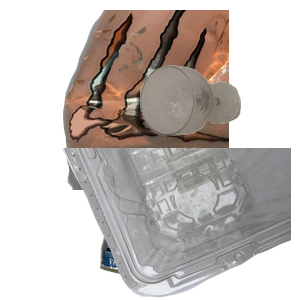glass: (138, 63, 300, 191)
metal: (60, 10, 300, 190)
plastic: (60, 148, 300, 300)
trash: (97, 152, 248, 300)
